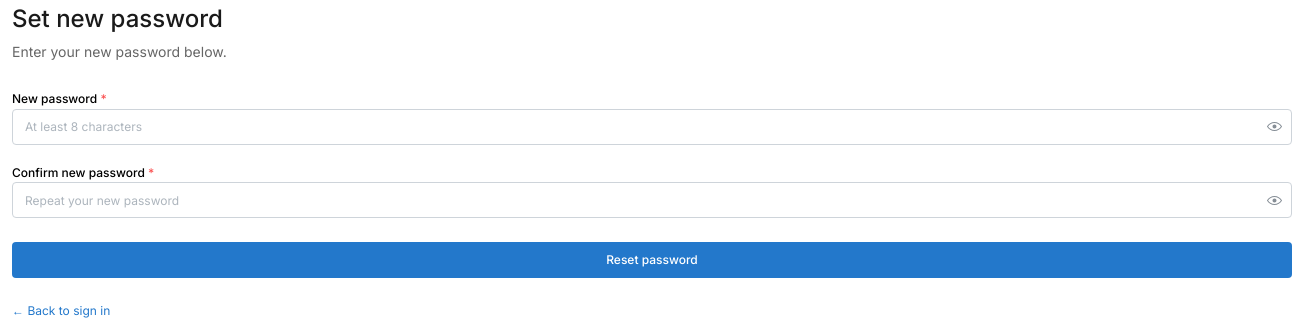
Test: ResetPasswordForm › shows a success message after a successful API response
In the password field with placeholder "At least 8 characters": (652, 127) [13,110,1291,144], type "securepassword"
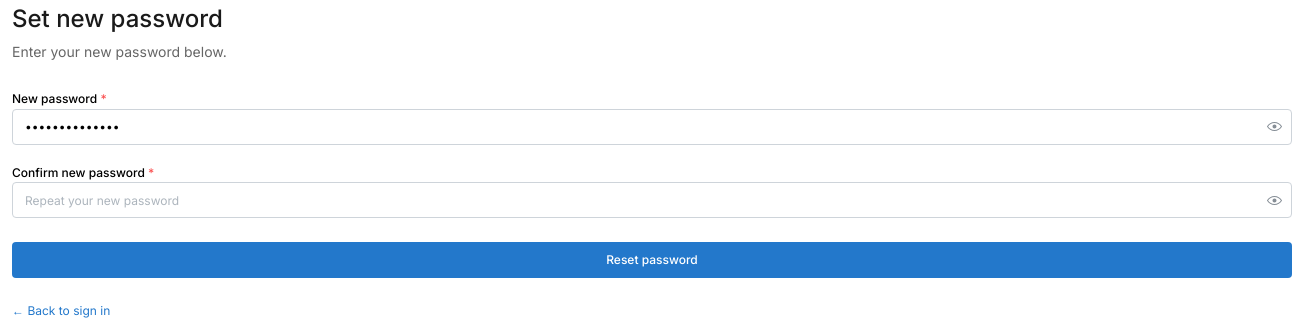
In the password field with placeholder "Repeat your new password": (652, 200) [13,183,1291,217], type "securepassword"
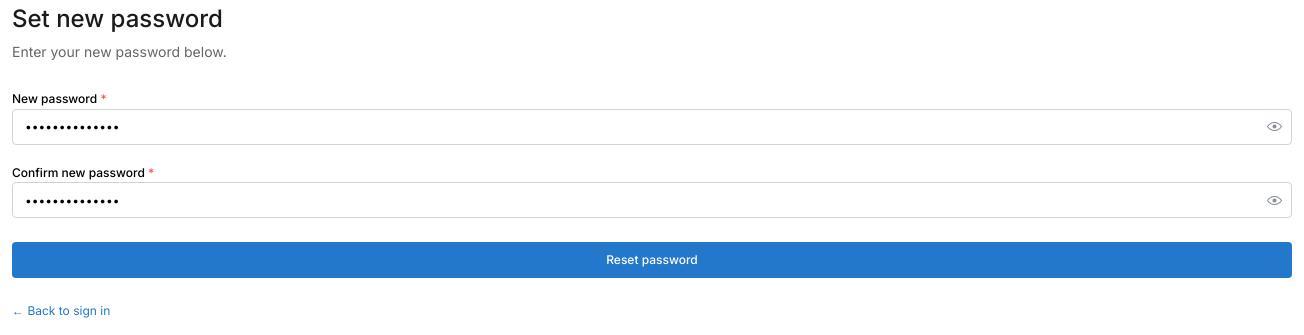
Click the button "Reset password": (652, 260) [12,242,1292,278]
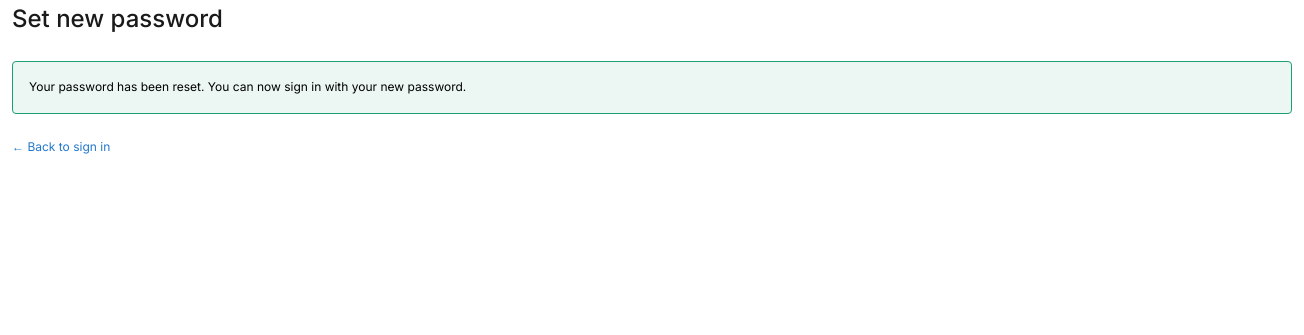
Expected: the message "Your password has been reset. You can now sign in with your new password." is shown, [12,61,1292,114]
Expected: the button "Reset password" is gone
